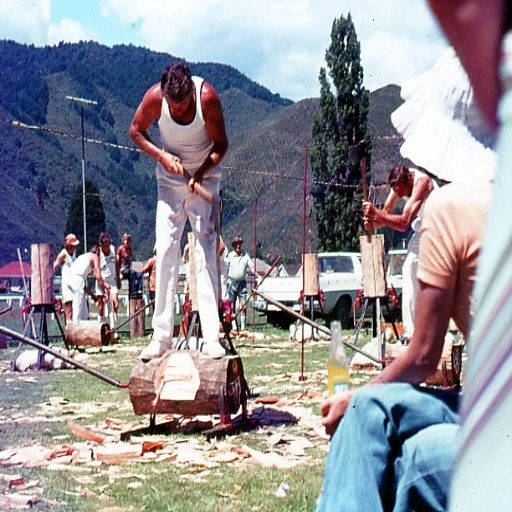hand: (317, 391, 350, 435), (185, 173, 202, 196), (161, 151, 178, 173), (359, 198, 374, 213), (361, 213, 373, 230), (113, 280, 122, 290), (103, 281, 111, 291), (100, 293, 107, 301), (91, 293, 96, 302)
